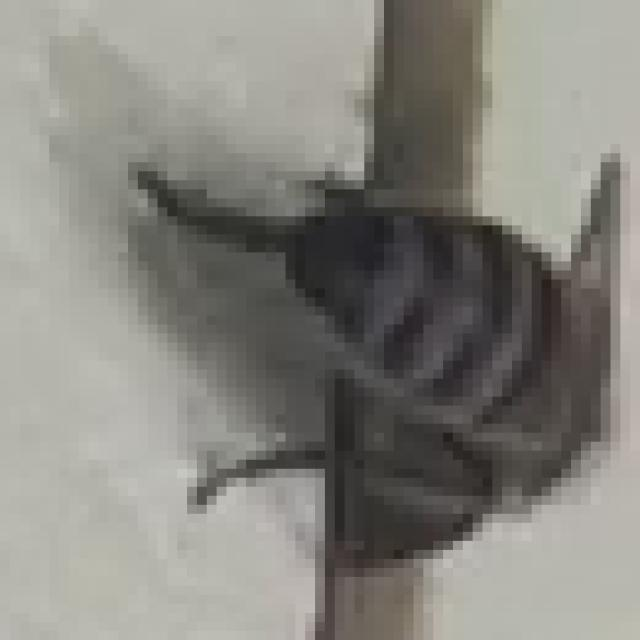honeybee: (128, 81, 640, 631)
